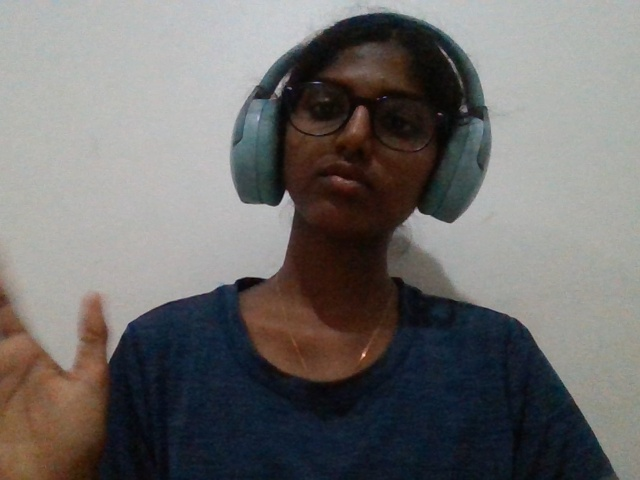Bye: (1, 249, 111, 480)
